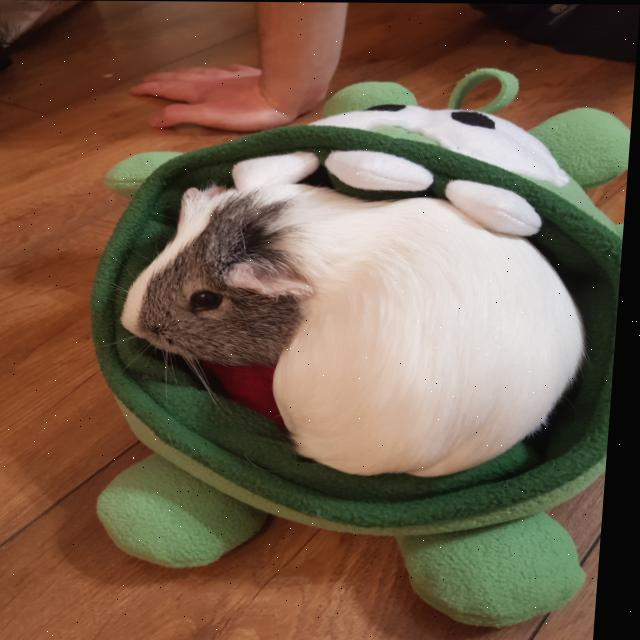guinea pig: (113, 178, 607, 479)
